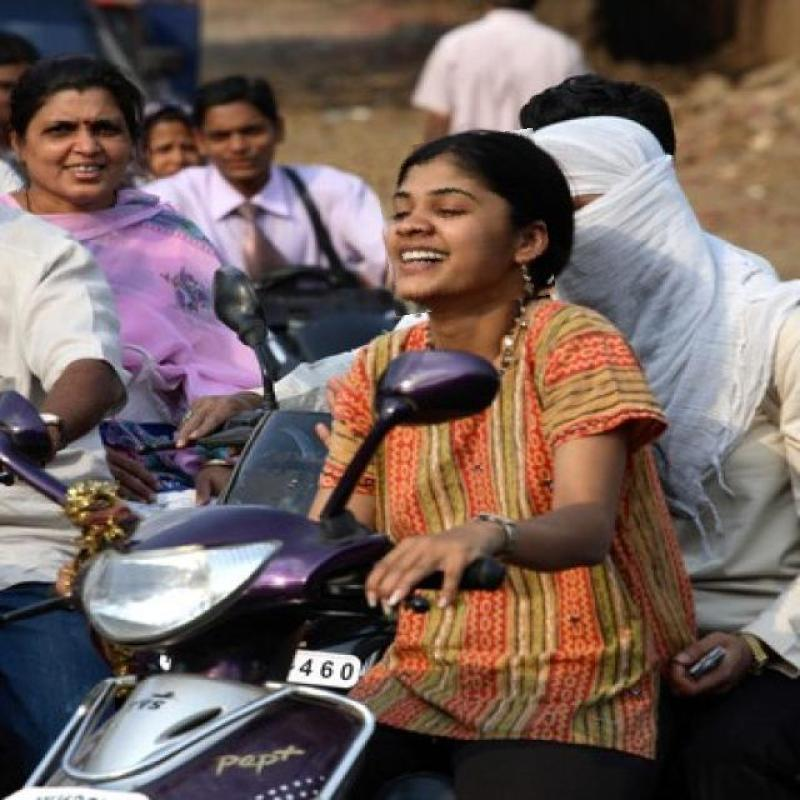nohelmet: (378, 133, 552, 312), (16, 70, 184, 204)
